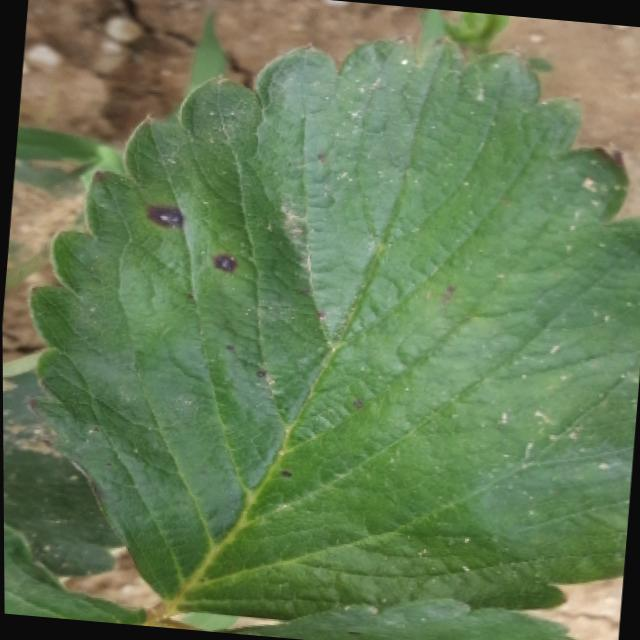Leaf Spot: (25, 34, 640, 623)
